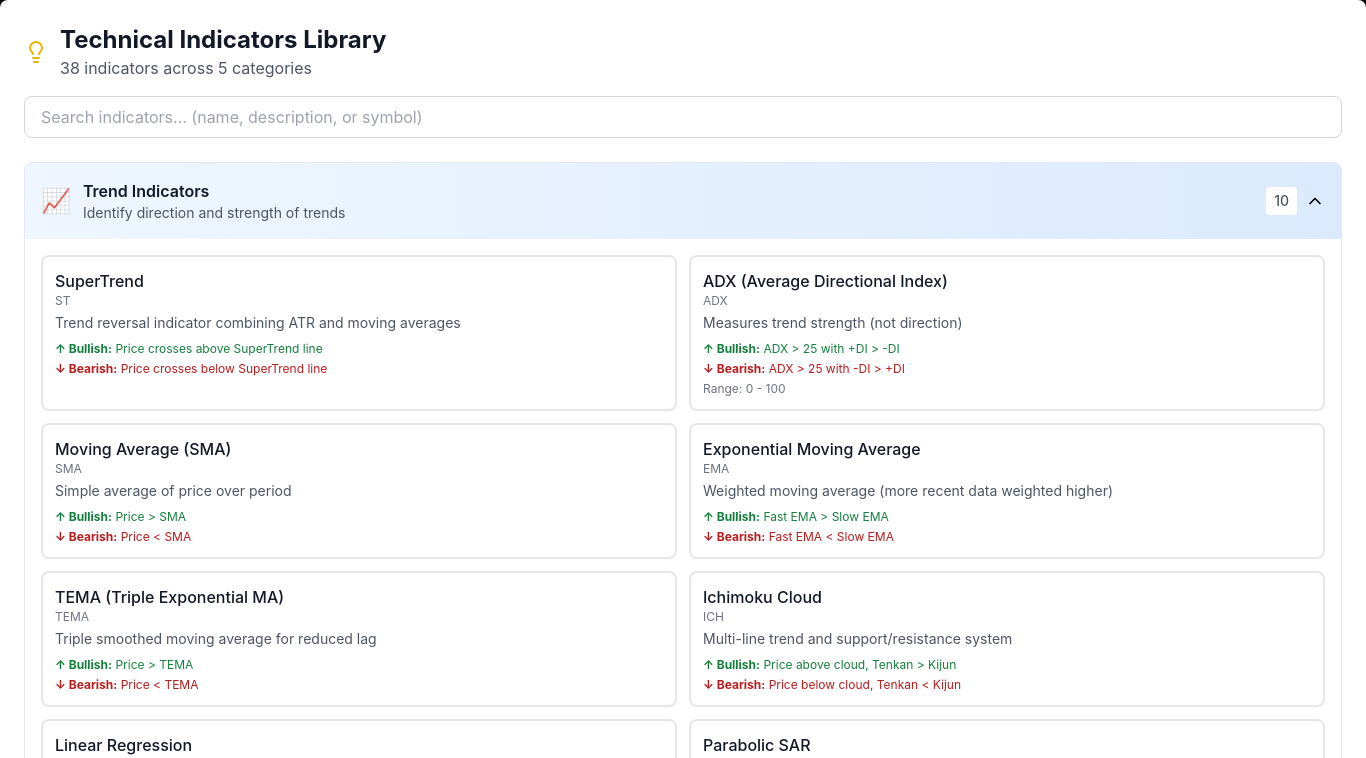
Test: IndicatorMenu › shows no results message when search returns empty
In the field with placeholder "Search indicators... (name, description, or symbol)": (683, 117) [24,96,1342,138], type "nonexistent_indicator_xyz"
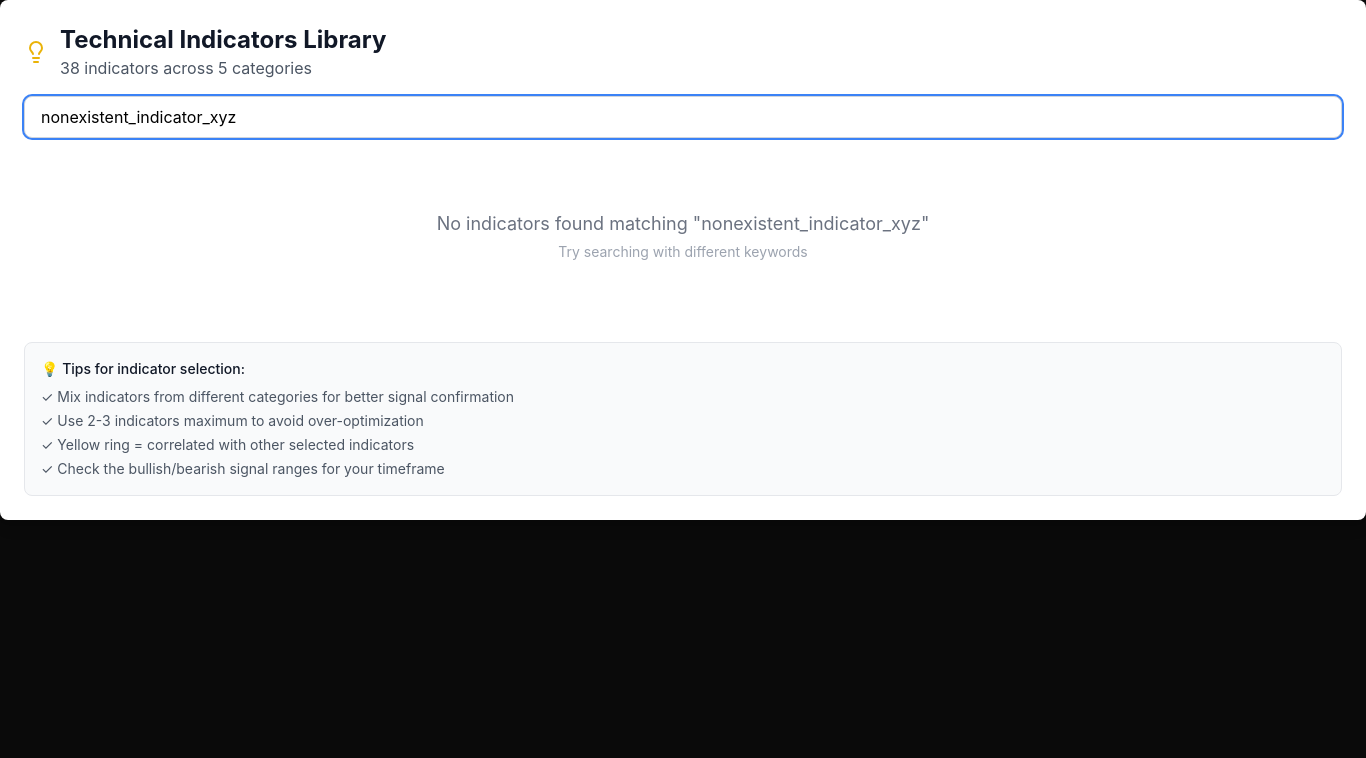
Check: the text "No indicators found matching \"nonexistent_indicator_xyz\"" is shown, box [437,213,929,234]
